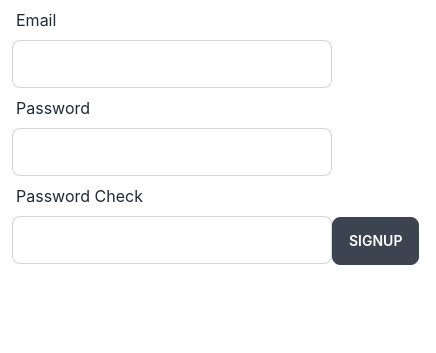
it: Signup › password check field should show error message if › clicked and not equal to password field
Click the field labelled "Password" at (172, 152), box [12,128,332,176]
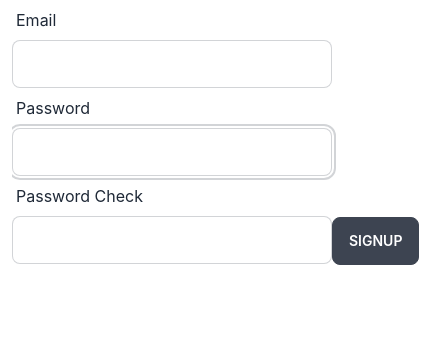
Type keys "123456733"
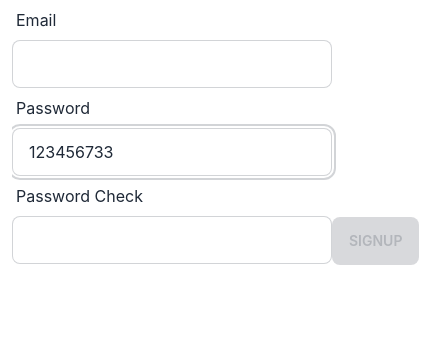
Click the field labelled "Password Check" at (172, 240), box [12,216,332,264]
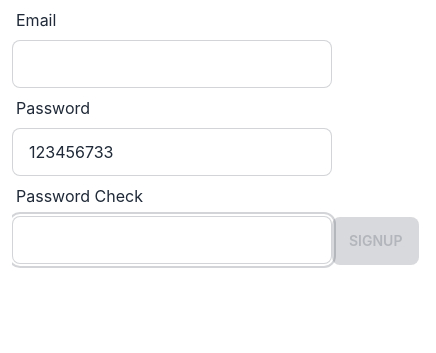
Type keys "123456344"
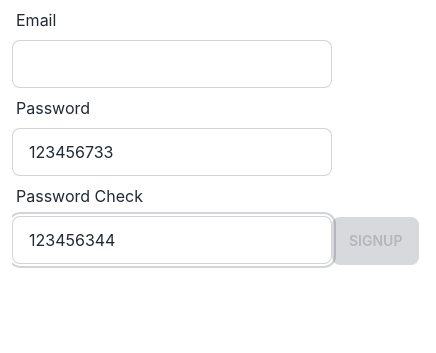
Click the field labelled "Password" at (172, 152), box [12,128,332,176]
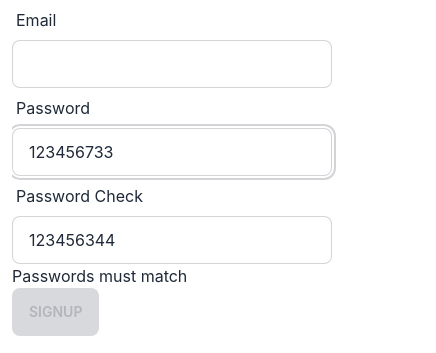
Expected: the text "Passwords must match" is shown, [12,266,187,286]
